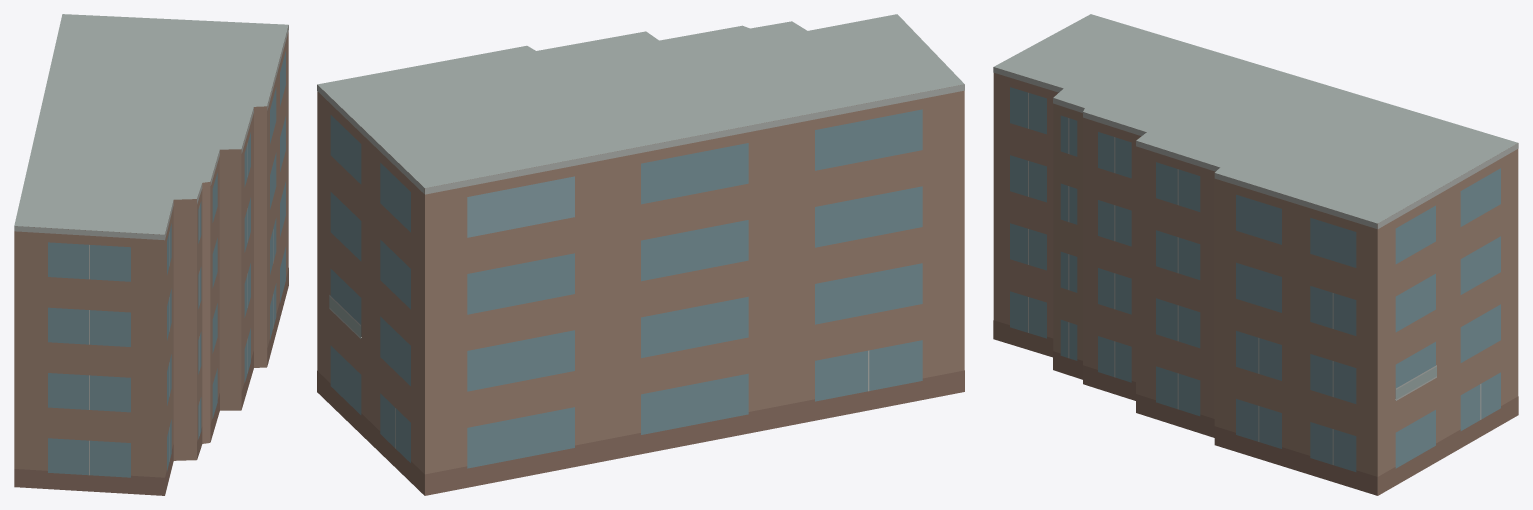
File: survey-upis-32593257.glb
The picture shows the model from 3 angles, left to right: view 1: azimuth 30°, elevation 25°; view 2: azimuth 150°, elevation 25°; view 3: azimuth 270°, elevation 25°; orthographic projection. The views are drawn at different scales.
Visible parts, largest first — view 1: survey-upis-32593257.tmp; view 2: survey-upis-32593257.tmp; view 3: survey-upis-32593257.tmp.
Boxes of the visible parts, box(x1,y1,x2,y2) form: survey-upis-32593257.tmp: box(14, 14, 288, 495); survey-upis-32593257.tmp: box(317, 14, 964, 495); survey-upis-32593257.tmp: box(993, 14, 1518, 495).
Size of the model in its own units: 19.33 by 11.7 by 20.46.
